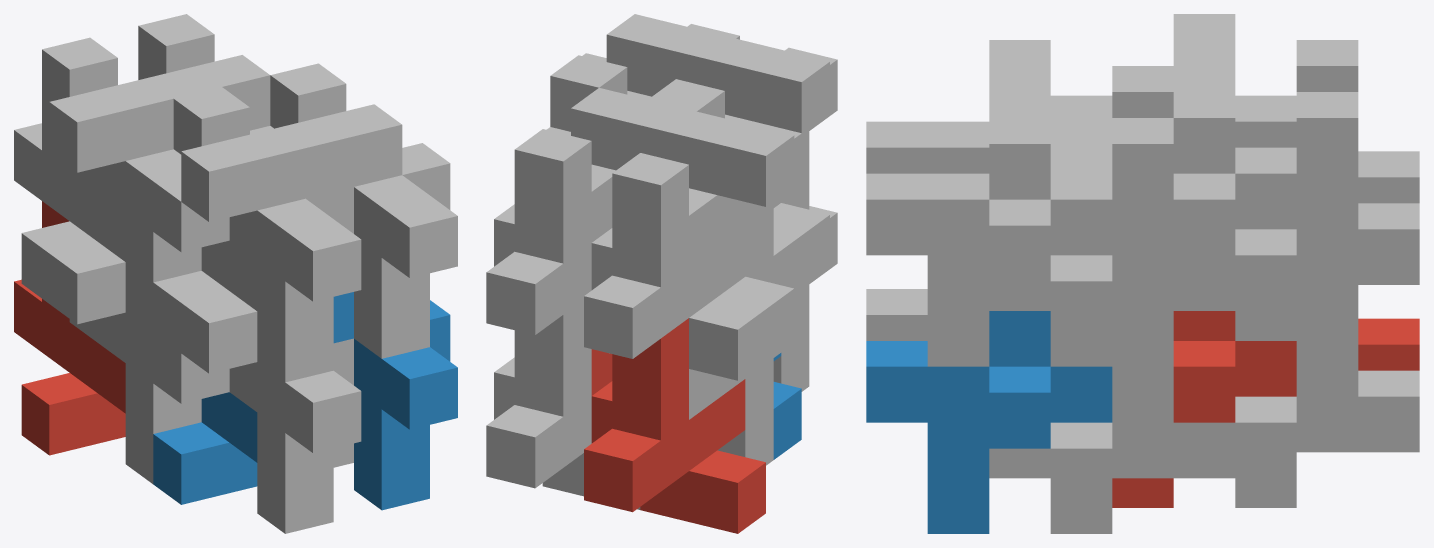
The model's file is tiling.obj.
3 renders of one model, left to right at view 1: azimuth 30°, elevation 25°; view 2: azimuth 150°, elevation 25°; view 3: azimuth 270°, elevation 25°, orthographic. The views are drawn at different scales.
Visible parts, largest first — view 1: copy_2_domain_4, copy_2_domain_8, copy_2_domain_3, copy_2_domain_2, copy_2_domain_1, copy_2_domain_6, copy_1_domain_3, copy_1_domain_1, copy_1_domain_4, copy_1_domain_2, copy_2_domain_7, copy_1_domain_7 (+1 smaller); view 2: copy_1_domain_3, copy_1_domain_1, copy_1_domain_7, copy_1_domain_5, copy_2_domain_3, copy_2_domain_4, copy_2_domain_7, copy_2_domain_1, copy_2_domain_8, copy_2_domain_2, copy_1_domain_4, copy_1_domain_8 (+2 smaller); view 3: copy_2_domain_8, copy_2_domain_6, copy_1_domain_8, copy_1_domain_7, copy_1_domain_6, copy_1_domain_5, copy_2_domain_7, copy_2_domain_5, copy_2_domain_4, copy_2_domain_3, copy_1_domain_3, copy_1_domain_1 (+2 smaller).
Boxes of the visible parts, box(x1,y1,x2,y2) form: copy_2_domain_4: box(181, 128, 361, 382); copy_2_domain_8: box(278, 104, 457, 358); copy_2_domain_3: box(49, 78, 229, 332); copy_2_domain_2: box(181, 291, 361, 533); copy_2_domain_1: box(49, 241, 229, 483); copy_2_domain_6: box(333, 292, 457, 510); copy_1_domain_3: box(14, 37, 125, 303); copy_1_domain_1: box(14, 201, 125, 455); copy_1_domain_4: box(153, 87, 257, 352); copy_1_domain_2: box(153, 392, 257, 504); copy_2_domain_7: box(146, 55, 273, 134); copy_1_domain_7: box(138, 14, 214, 79); copy_1_domain_3: box(584, 153, 765, 380); copy_1_domain_1: box(584, 318, 765, 533); copy_1_domain_7: box(486, 129, 591, 334); copy_1_domain_5: box(486, 300, 640, 509); copy_2_domain_3: box(668, 111, 801, 283); copy_2_domain_4: box(704, 38, 837, 209); copy_2_domain_7: box(546, 88, 696, 242); copy_2_domain_1: box(689, 276, 801, 465); copy_2_domain_8: box(582, 14, 739, 99); copy_2_domain_2: box(773, 203, 837, 391); copy_1_domain_4: box(648, 79, 801, 291); copy_1_domain_8: box(550, 55, 627, 131); copy_2_domain_8: box(866, 92, 1112, 366); copy_2_domain_6: box(866, 311, 1112, 533); copy_1_domain_8: box(989, 118, 1235, 366); copy_1_domain_7: box(1235, 92, 1419, 340); copy_1_domain_6: box(989, 311, 1235, 533); copy_1_domain_5: box(1235, 285, 1419, 507); copy_2_domain_7: box(1050, 66, 1296, 255); copy_2_domain_5: box(1112, 311, 1296, 507); copy_2_domain_4: box(866, 40, 1112, 173); copy_2_domain_3: box(1050, 14, 1296, 147); copy_1_domain_3: box(1296, 40, 1419, 203); copy_1_domain_1: box(1358, 318, 1419, 370).
Bounding box in the file's own units: 6 × 7 × 9.
